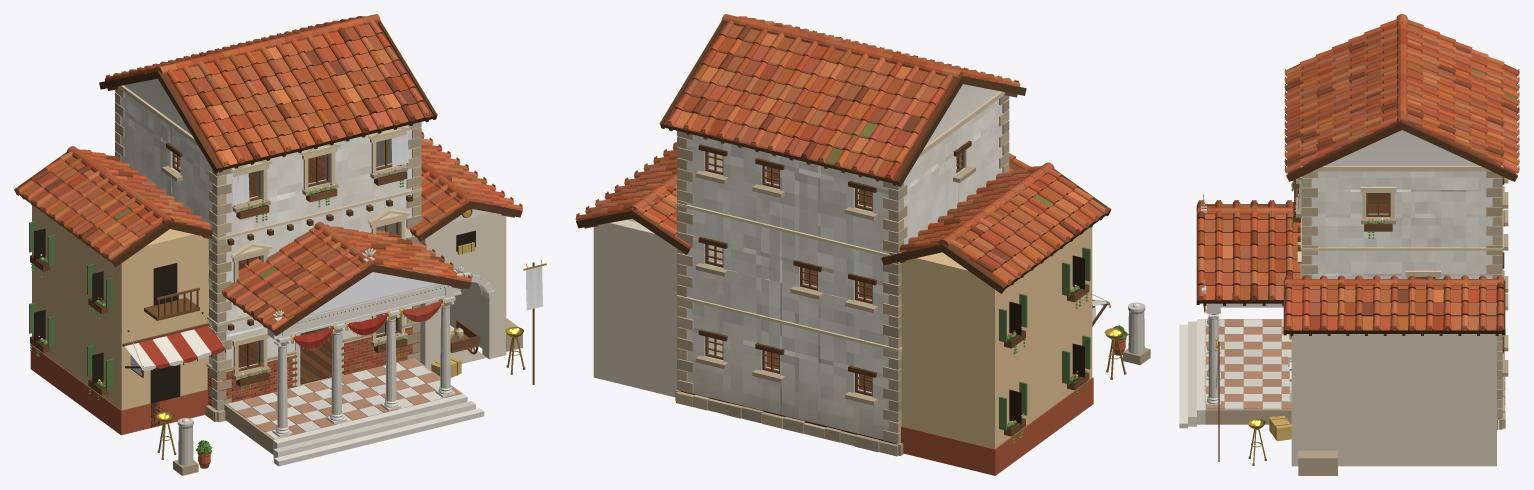
Rendered from civ_center7.glb.
3 renders of one model, left to right at view 1: azimuth 30°, elevation 25°; view 2: azimuth 150°, elevation 25°; view 3: azimuth 270°, elevation 25°, orthographic. The views are drawn at different scales.
Parts seen in each view (by area): view 1: House, Walls, Rooms; view 2: House, Walls, Rooms; view 3: House, Walls, Rooms.
Boxes of the visible parts, box(x1,y1,x2,y2) form: House: box(14, 14, 546, 475); Walls: box(121, 78, 418, 399); Rooms: box(179, 138, 395, 384); House: box(575, 14, 1150, 475); Walls: box(680, 84, 1002, 439); Rooms: box(709, 152, 956, 392); House: box(1179, 14, 1519, 475); Walls: box(1303, 130, 1500, 408); Rooms: box(1368, 193, 1426, 278).
Bounding box in the file's own units: 10.42 × 7.84 × 7.71.
Materials: 11 (11 with a texture image).
